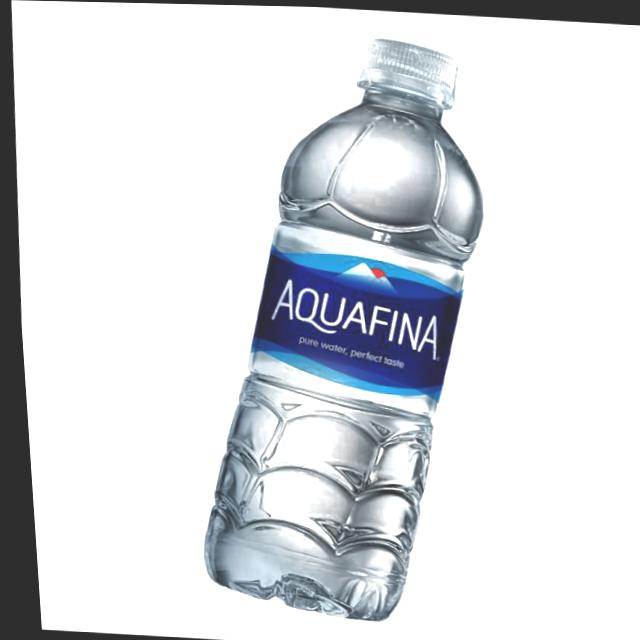Bottles: (152, 20, 524, 639)
